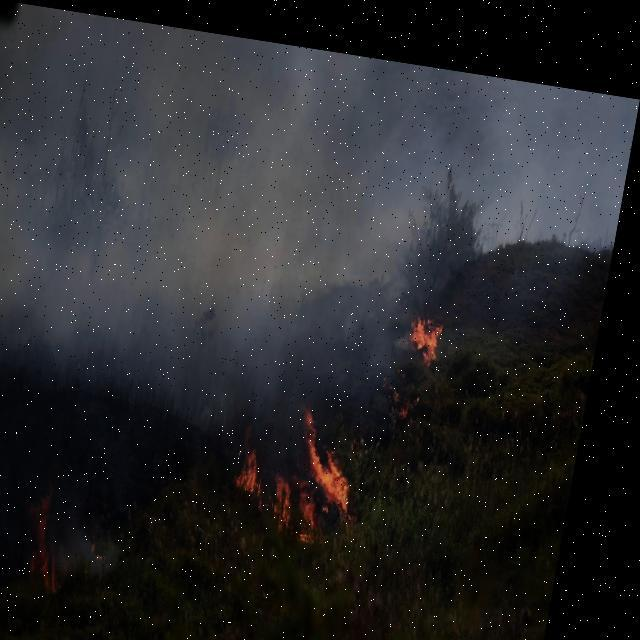Fire: (308, 394, 376, 494), (36, 479, 94, 578), (282, 462, 340, 532), (242, 420, 284, 492), (418, 302, 453, 346)
